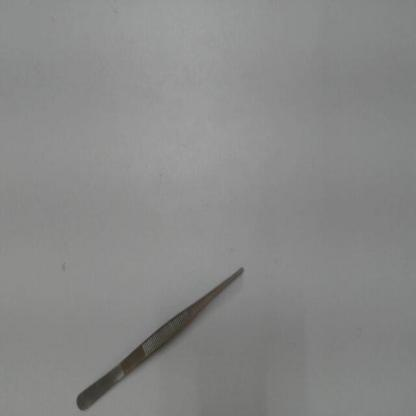Gillies Toothed Dissector: (71, 258, 256, 413)
